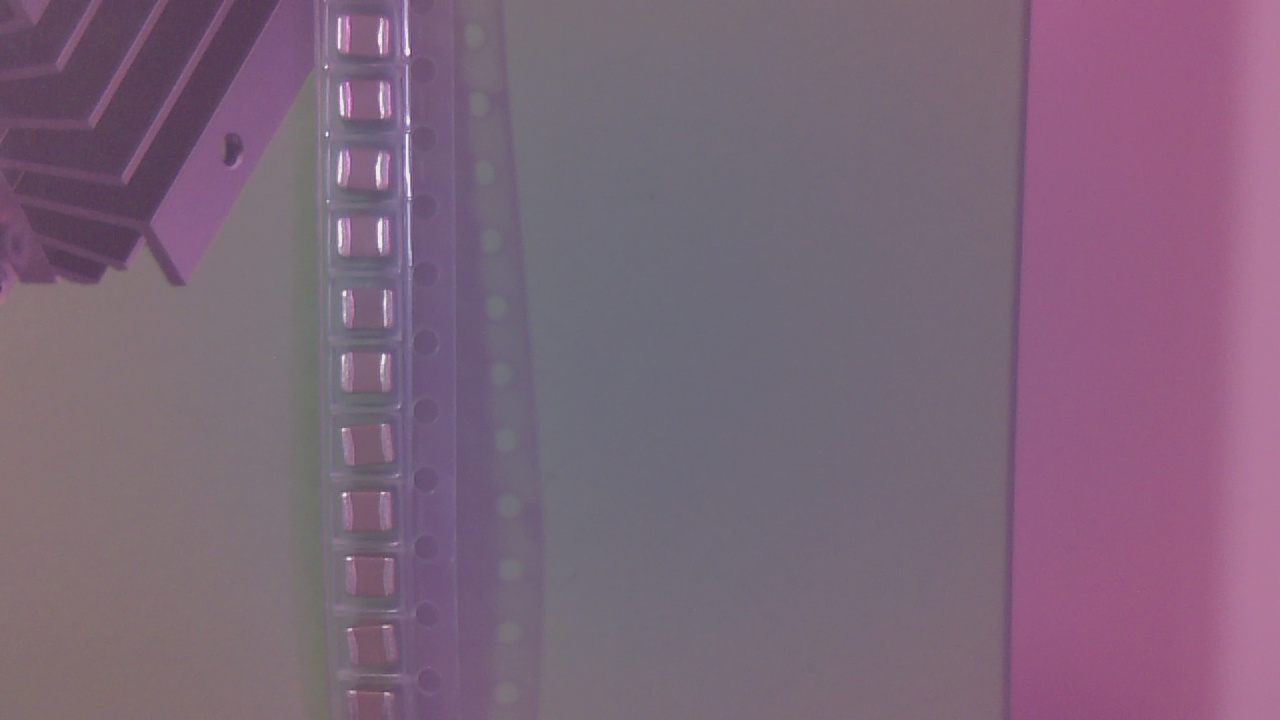Condensator: (344, 353, 402, 399), (342, 151, 395, 199), (341, 17, 396, 63), (342, 221, 399, 265), (347, 492, 399, 539), (345, 426, 402, 468), (355, 624, 406, 670), (349, 556, 399, 602), (348, 291, 400, 335), (345, 83, 396, 125), (355, 692, 401, 720)
